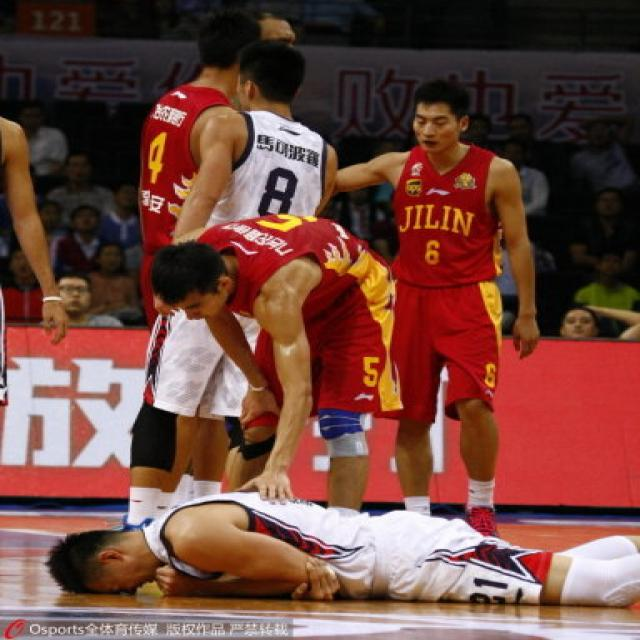10-: (0, 3, 638, 620)
down: (25, 478, 638, 619)
